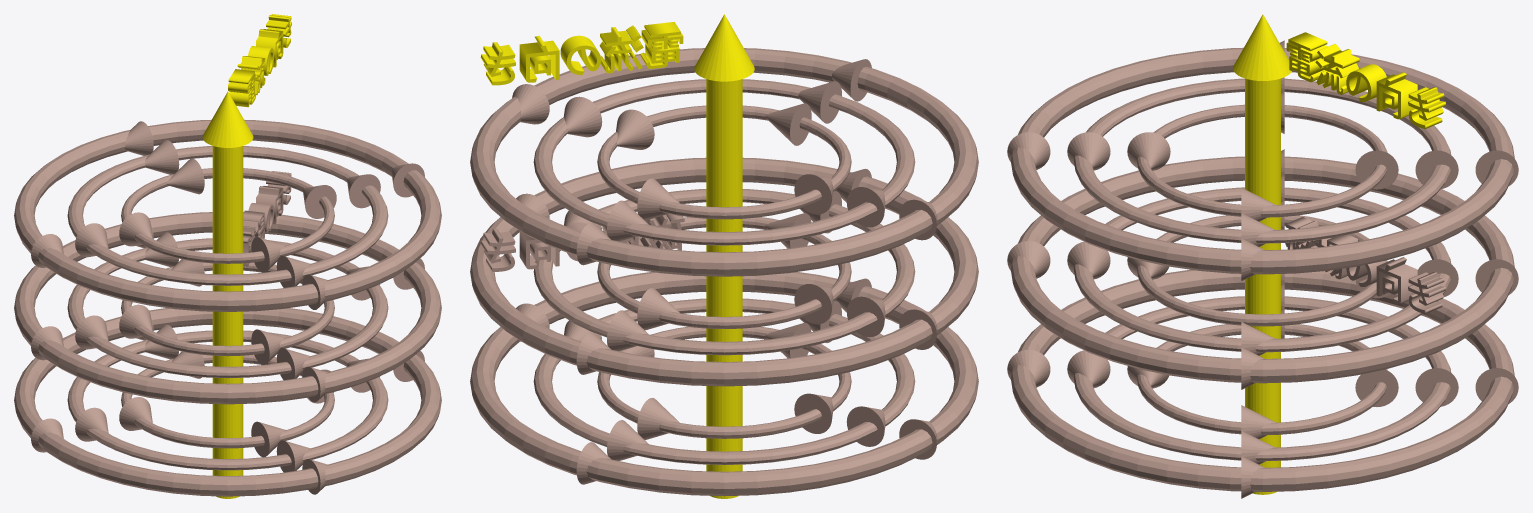
File: Corkscrew_rule.glb
3 renders of one model, left to right at view 1: azimuth 30°, elevation 25°; view 2: azimuth 150°, elevation 25°; view 3: azimuth 270°, elevation 25°, orthographic. The views are drawn at different scales.
Parts seen in each view (by area): view 1: 磁力線.002, 磁力線.008, 磁力線.003, 磁力線.001, 電流, 磁力線.007, 磁力線.004, 磁力線, 電流向き, 磁力線.006, 磁力線.005, 磁場の向き (+24 smaller); view 2: 磁力線.002, 磁力線.008, 磁力線.003, 磁力線.001, 電流, 磁力線.007, 磁力線.004, 電流向き, 磁力線, 磁力線.006, 磁力線.005, 磁場の向き (+27 smaller); view 3: 磁力線.002, 磁力線.003, 磁力線.008, 磁力線.001, 磁力線.007, 磁力線.004, 電流, 電流向き, 磁力線, 磁力線.006, 磁力線.005, 磁場の向き (+21 smaller).
Part boxes in pixels (bbox=[...]): 磁力線.002: bbox=[14, 119, 441, 311]; 磁力線.008: bbox=[14, 308, 441, 496]; 磁力線.003: bbox=[14, 212, 441, 404]; 磁力線.001: bbox=[67, 146, 388, 285]; 電流: bbox=[212, 146, 243, 498]; 磁力線.007: bbox=[67, 330, 388, 470]; 磁力線.004: bbox=[67, 238, 388, 378]; 磁力線: bbox=[121, 168, 334, 263]; 電流向き: bbox=[228, 14, 291, 107]; 磁力線.006: bbox=[121, 354, 334, 448]; 磁力線.005: bbox=[121, 262, 334, 356]; 磁場の向き: bbox=[243, 171, 291, 266]; 磁力線.002: bbox=[470, 48, 978, 276]; 磁力線.008: bbox=[470, 272, 978, 496]; 磁力線.003: bbox=[470, 157, 978, 386]; 磁力線.001: bbox=[533, 79, 915, 245]; 電流: bbox=[706, 79, 742, 498]; 磁力線.007: bbox=[533, 298, 915, 464]; 磁力線.004: bbox=[533, 189, 915, 355]; 電流向き: bbox=[480, 22, 683, 85]; 磁力線: bbox=[597, 105, 851, 219]; 磁力線.006: bbox=[597, 326, 851, 438]; 磁力線.005: bbox=[597, 217, 851, 328]; 磁場の向き: bbox=[480, 214, 684, 271]; 磁力線.002: bbox=[1010, 47, 1514, 274]; 磁力線.003: bbox=[1010, 156, 1514, 383]; 磁力線.008: bbox=[1010, 269, 1514, 491]; 磁力線.001: bbox=[1074, 78, 1451, 243]; 磁力線.007: bbox=[1074, 296, 1451, 461]; 磁力線.004: bbox=[1074, 187, 1451, 352]; 電流: bbox=[1245, 78, 1280, 494]; 電流向き: bbox=[1286, 32, 1445, 129]; 磁力線: bbox=[1137, 104, 1387, 217]; 磁力線.006: bbox=[1137, 324, 1387, 435]; 磁力線.005: bbox=[1137, 215, 1387, 326]; 磁場の向き: bbox=[1285, 217, 1445, 313].
Bounding box in the file's own units: 4.26 × 4.35 × 4.26.
